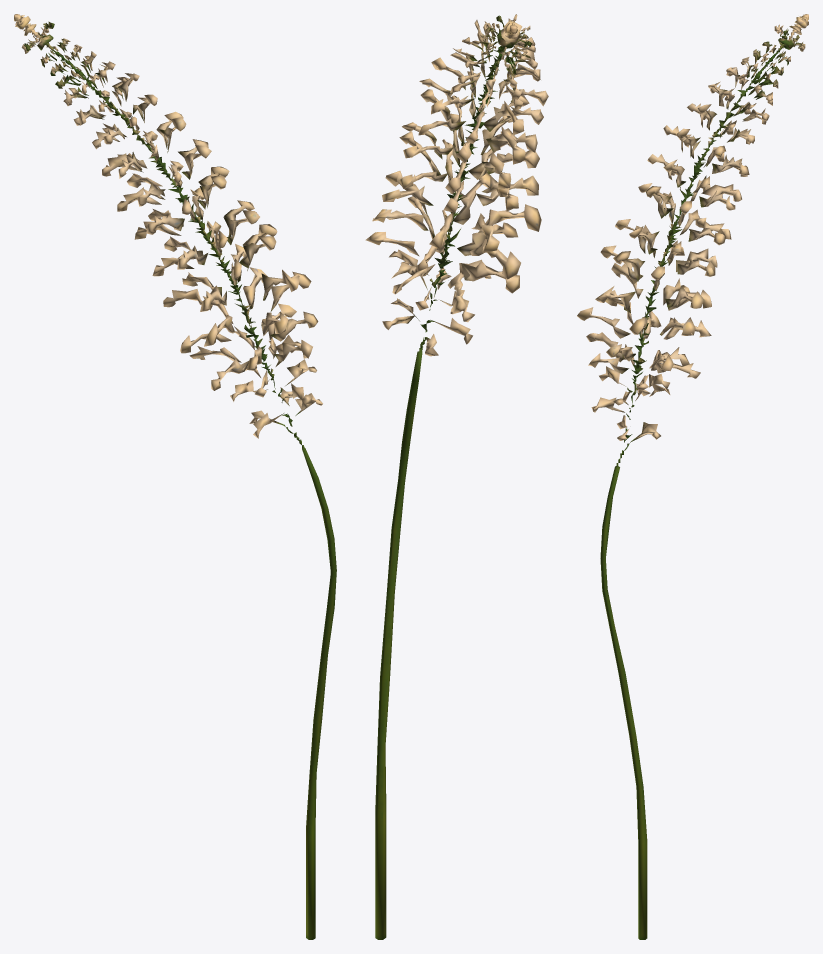
Rendered from flower-08.glb.
3 views of the same model, side by side, from view 1: azimuth 30°, elevation 25°; view 2: azimuth 150°, elevation 25°; view 3: azimuth 270°, elevation 25° (orthographic). The views are drawn at different scales.
Visible parts, largest first — view 1: tripo_node_e21b422e-80f1-4107-9244-73f91fcf653b; view 2: tripo_node_e21b422e-80f1-4107-9244-73f91fcf653b; view 3: tripo_node_e21b422e-80f1-4107-9244-73f91fcf653b.
Part boxes in pixels (x1,y1,x2,y2): tripo_node_e21b422e-80f1-4107-9244-73f91fcf653b: [14, 14, 336, 939]; tripo_node_e21b422e-80f1-4107-9244-73f91fcf653b: [365, 14, 548, 939]; tripo_node_e21b422e-80f1-4107-9244-73f91fcf653b: [577, 14, 808, 939].
Bounding box in the file's own units: 0.248 × 0.998 × 0.252.
1 material, 1 textured.
